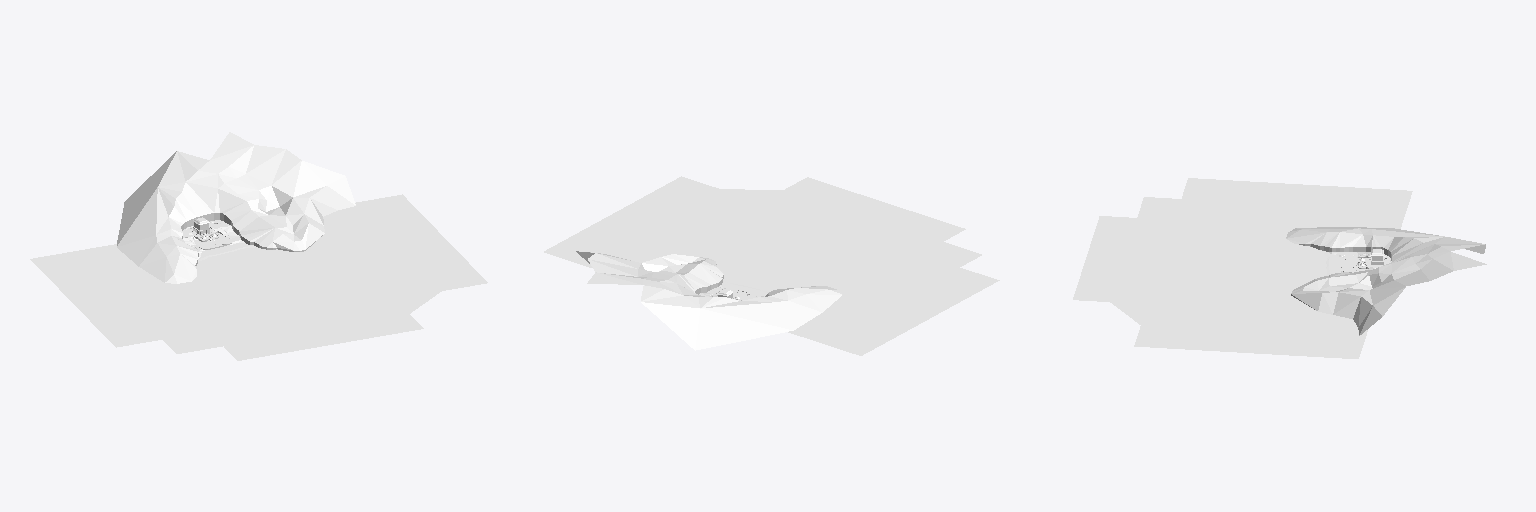
Rendered from sirena0_LowPoly_02_KCL_Version_v2.obj.
The picture shows the model from 3 angles: view 1: azimuth 30°, elevation 25°; view 2: azimuth 150°, elevation 25°; view 3: azimuth 270°, elevation 25°; orthographic projection.
Parts seen in each view (by area): view 1: Mesh_test; view 2: Mesh_test; view 3: Mesh_test.
Boxes of the visible parts, box(x1,y1,x2,y2) form: Mesh_test: box(30, 132, 487, 360); Mesh_test: box(544, 176, 999, 355); Mesh_test: box(1073, 178, 1486, 358).
Bounding box in the file's own units: 227 × 34.33 × 219.